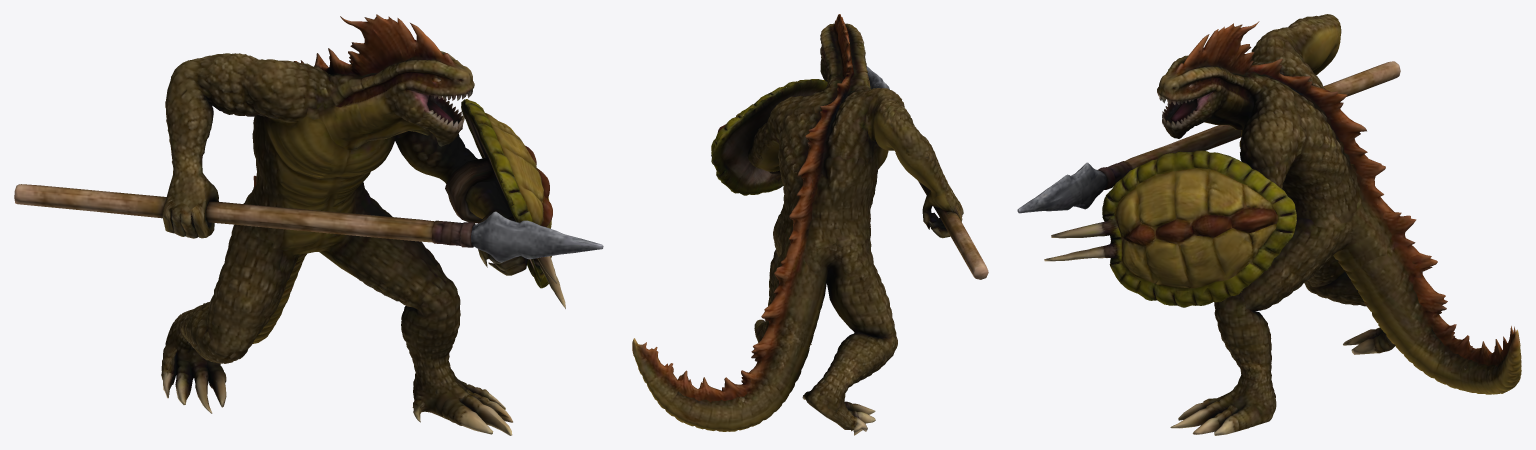
The model's file is MZ4250 - Lizardfolk with Spear_alt2.glb.
3 renders of one model, left to right at view 1: azimuth 30°, elevation 25°; view 2: azimuth 150°, elevation 25°; view 3: azimuth 270°, elevation 25°, orthographic. The views are drawn at different scales.
Parts seen in each view (by area): view 1: Lizardfolk Updated spear and shield.001; view 2: Lizardfolk Updated spear and shield.001; view 3: Lizardfolk Updated spear and shield.001.
Boxes of the visible parts, left/top/right/bottom form: Lizardfolk Updated spear and shield.001: left=14, top=14, right=603, bottom=435; Lizardfolk Updated spear and shield.001: left=632, top=14, right=988, bottom=435; Lizardfolk Updated spear and shield.001: left=1017, top=14, right=1521, bottom=435.
Bounding box in the file's own units: 37.21 × 36.02 × 44.81.
Materials: 1 (1 with a texture image).
